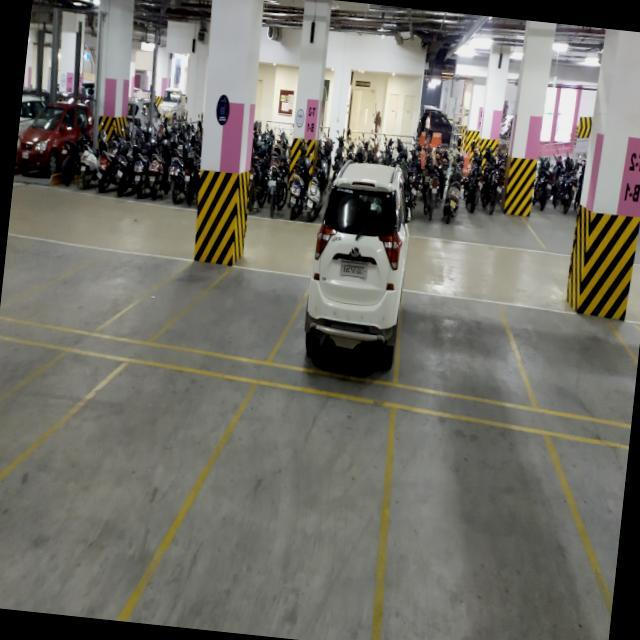car: (286, 275, 402, 391)
free: (0, 382, 197, 602), (208, 423, 392, 628), (405, 439, 565, 640), (404, 309, 514, 413), (34, 240, 135, 336), (534, 308, 614, 422), (200, 262, 284, 363), (568, 449, 628, 567)
